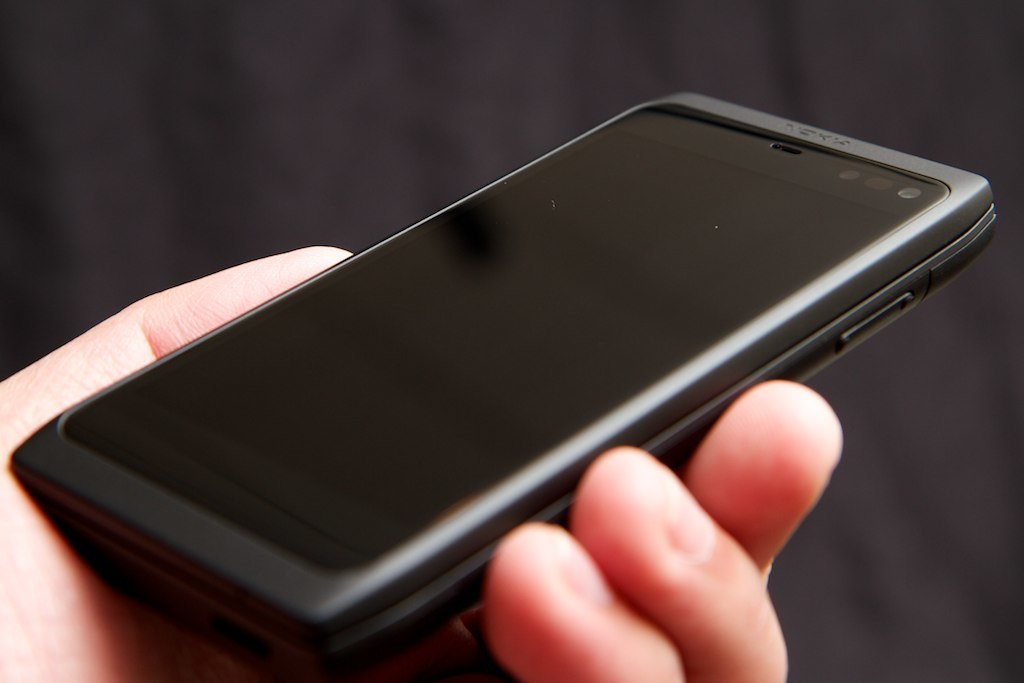Mobile-phone: (18, 80, 1003, 656)
